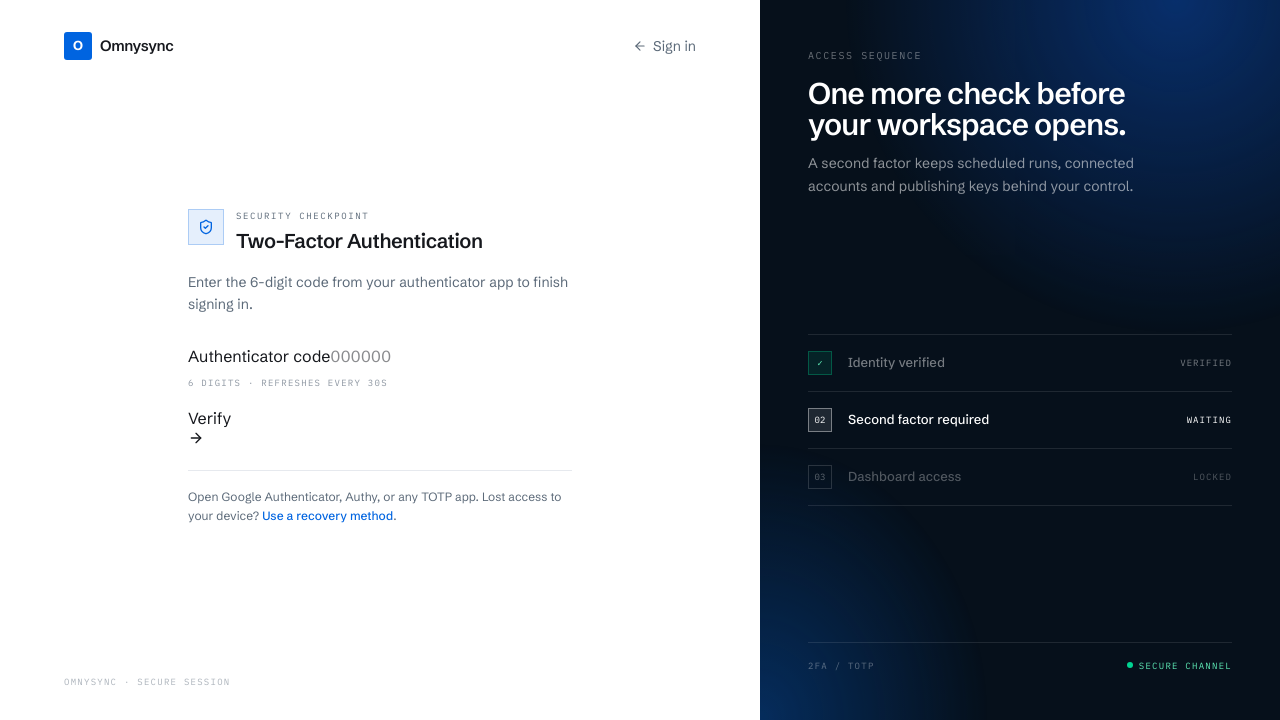
Test: TwoFactorVerifyPage › only allows numeric input up to 6 digits
In the field with placeholder "000000": {"x": 426, "y": 356} [330,344,522,368], type "abc123456def"
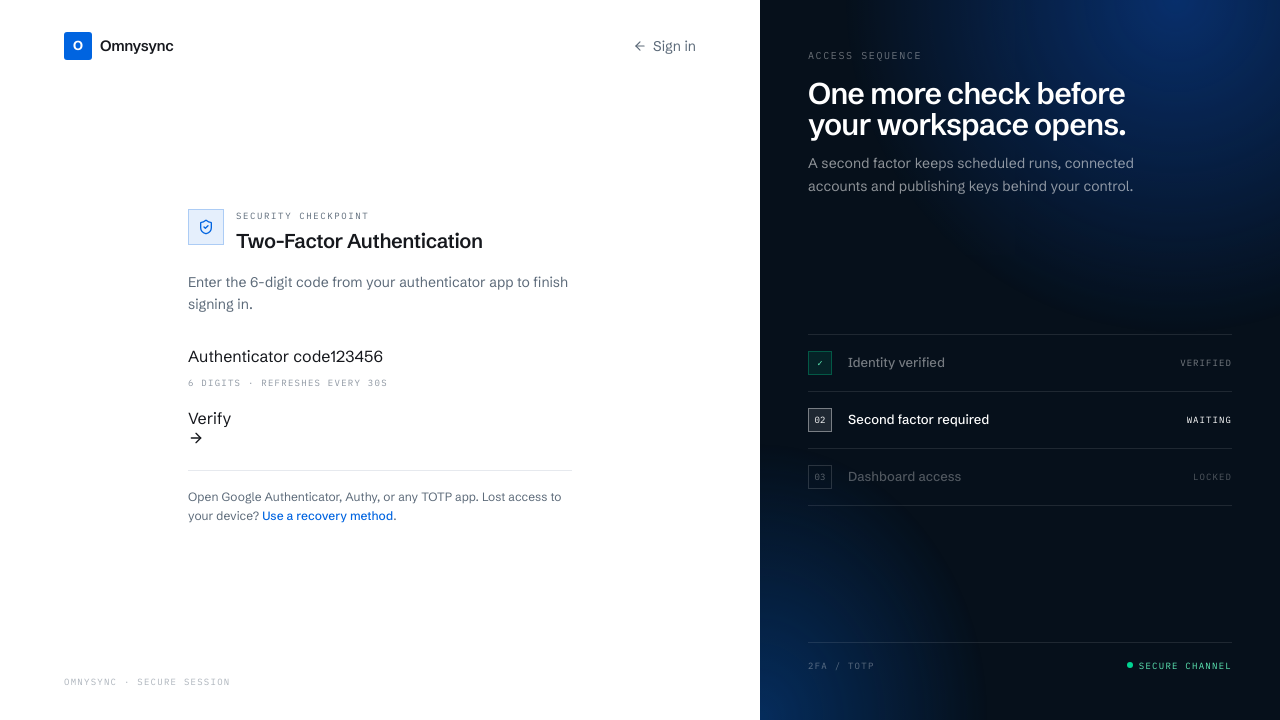
Now the field with placeholder "000000" holds "123456", box [330,344,522,368]
